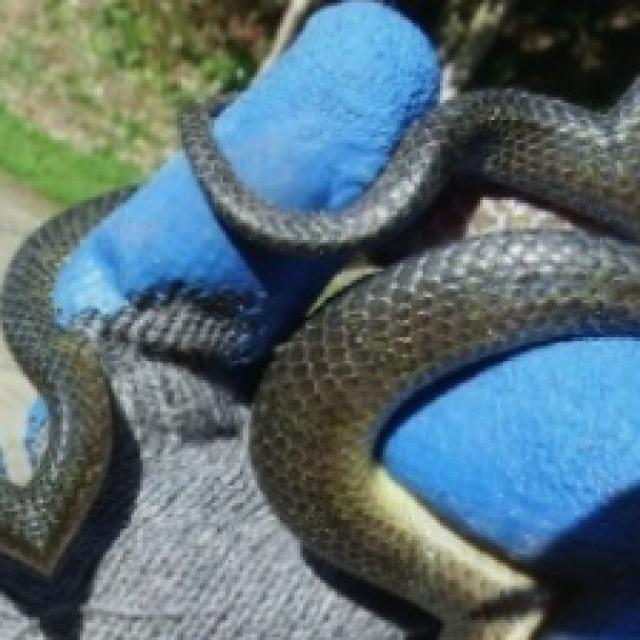gunthers philippine shrub snake: (181, 86, 640, 640), (2, 191, 127, 572)
